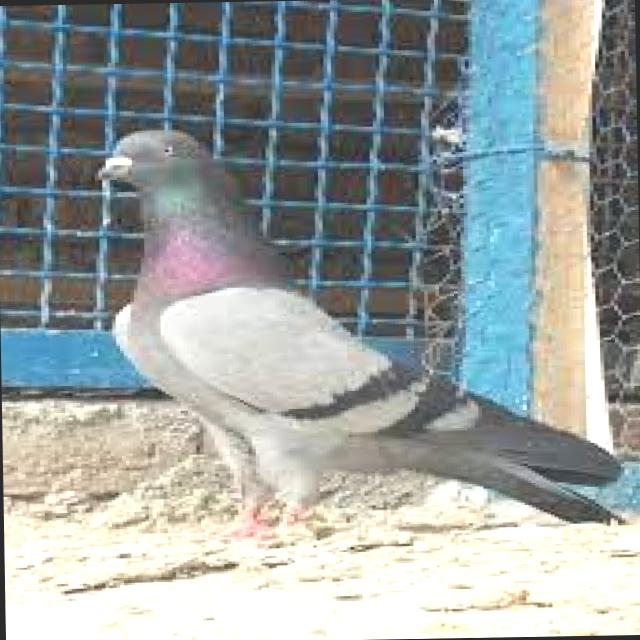bird: (85, 111, 630, 548)
